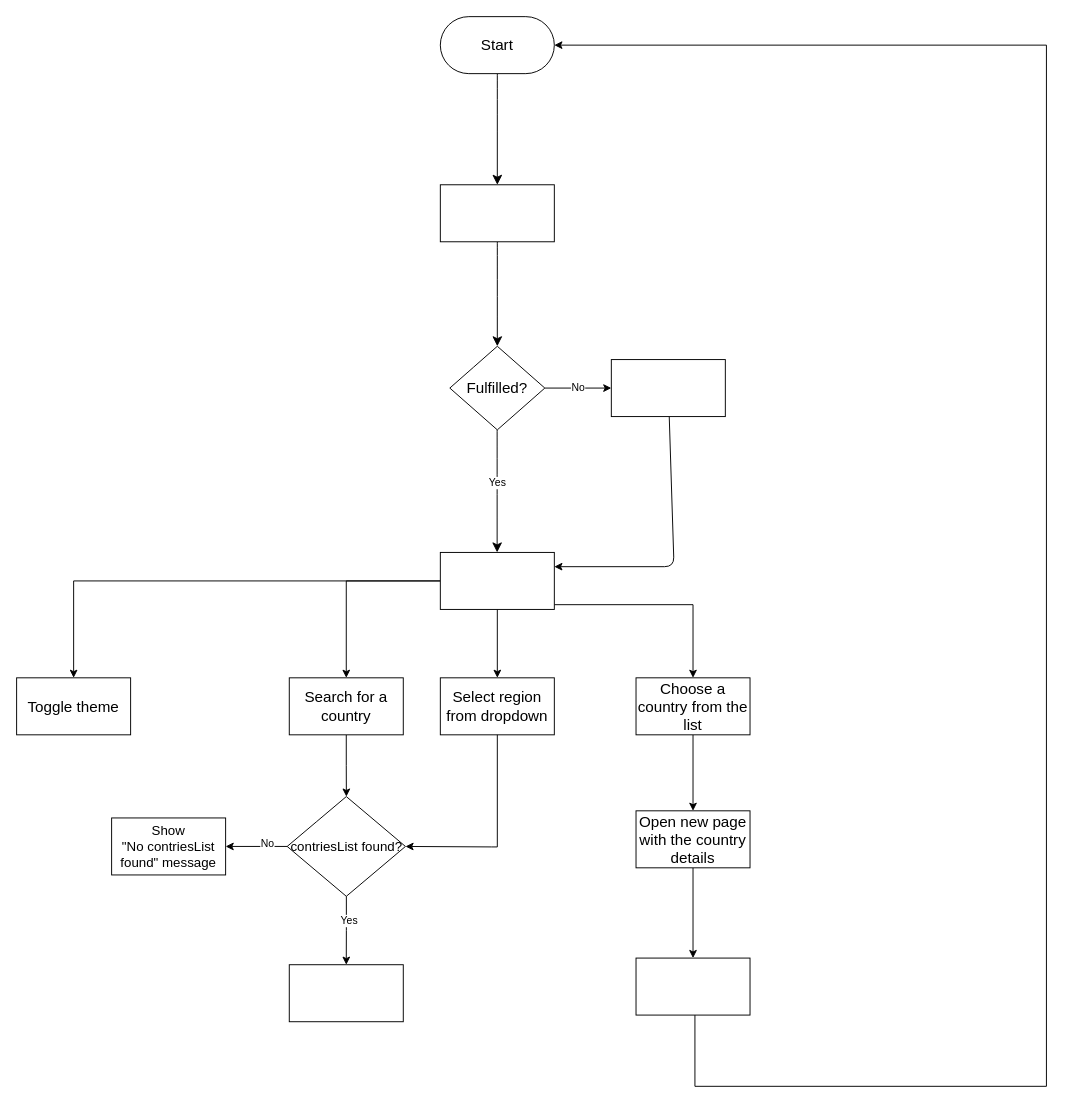
The diagram is 1071 pixels wide and 1111 high, and some of its shapes have lost their labels. The box of each missing label's shape, as (x1, y1, x2, y2) in pixels:
Click "Back" button: (635, 957, 750, 1015)
Fetch data from API and save it to localstorage: (610, 359, 725, 417)
Fetch data from localstorage: (439, 184, 554, 242)
Render contriesLists list: (288, 964, 403, 1022)
Render countries list: (439, 551, 554, 609)
